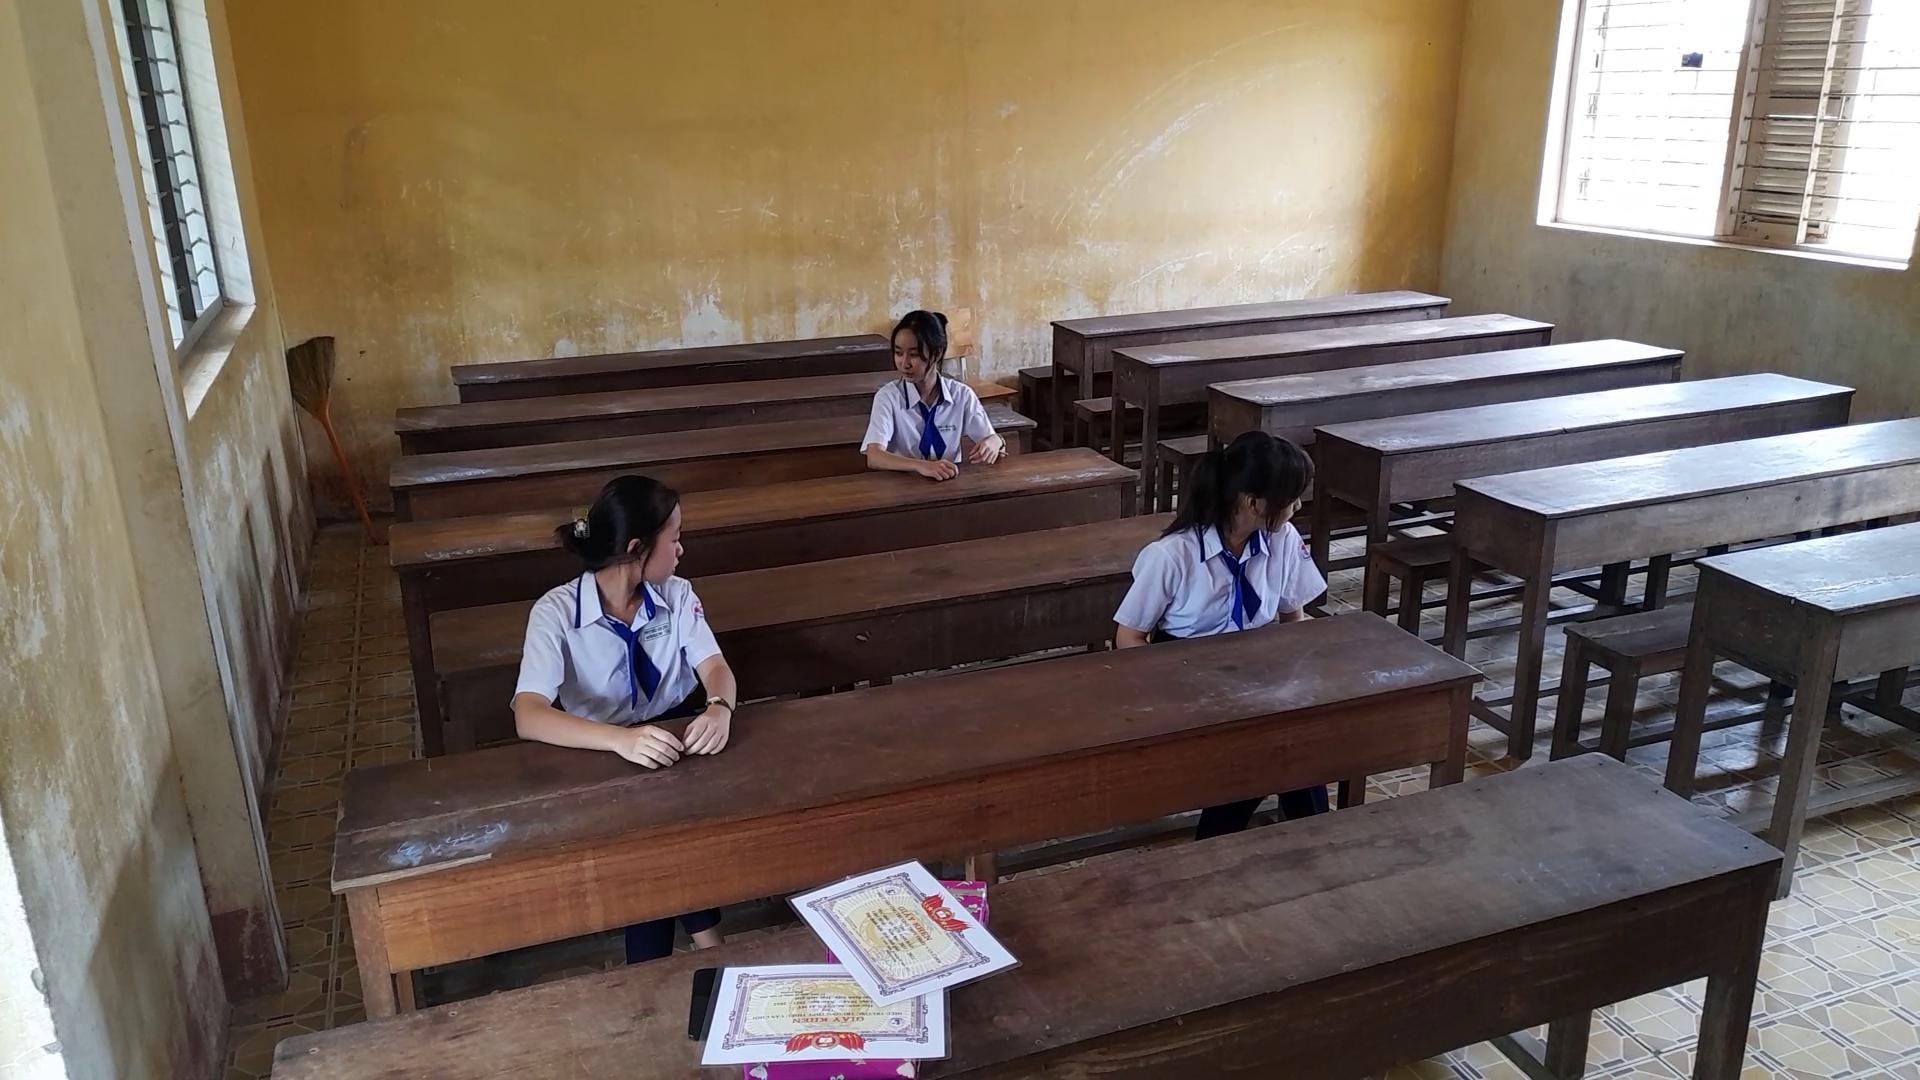Hand Under Table: (1095, 524, 1183, 653), (1269, 524, 1327, 637)
Look Around: (1171, 409, 1327, 547), (558, 460, 713, 597), (869, 297, 961, 393)
